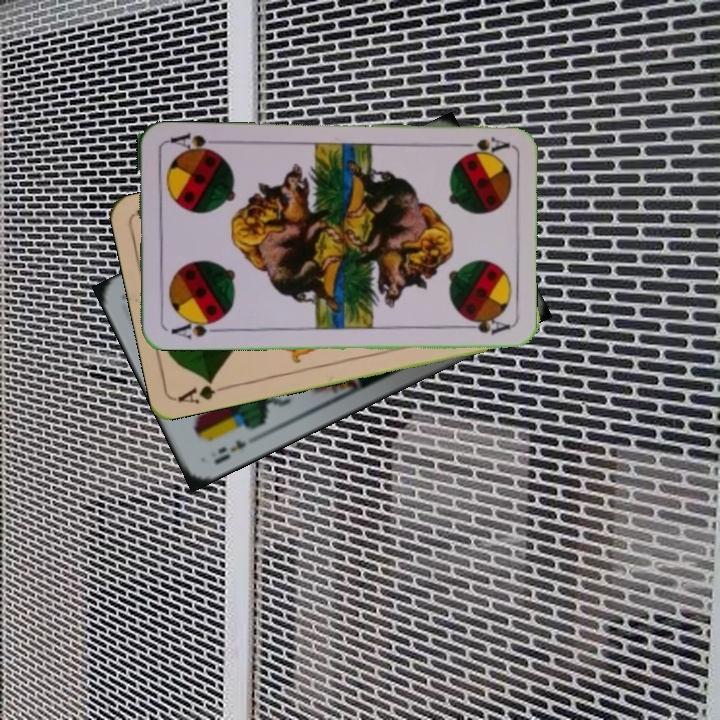EK: (209, 435, 249, 467)
GA: (174, 374, 232, 406)
SA: (452, 132, 511, 157), (167, 315, 220, 342)
